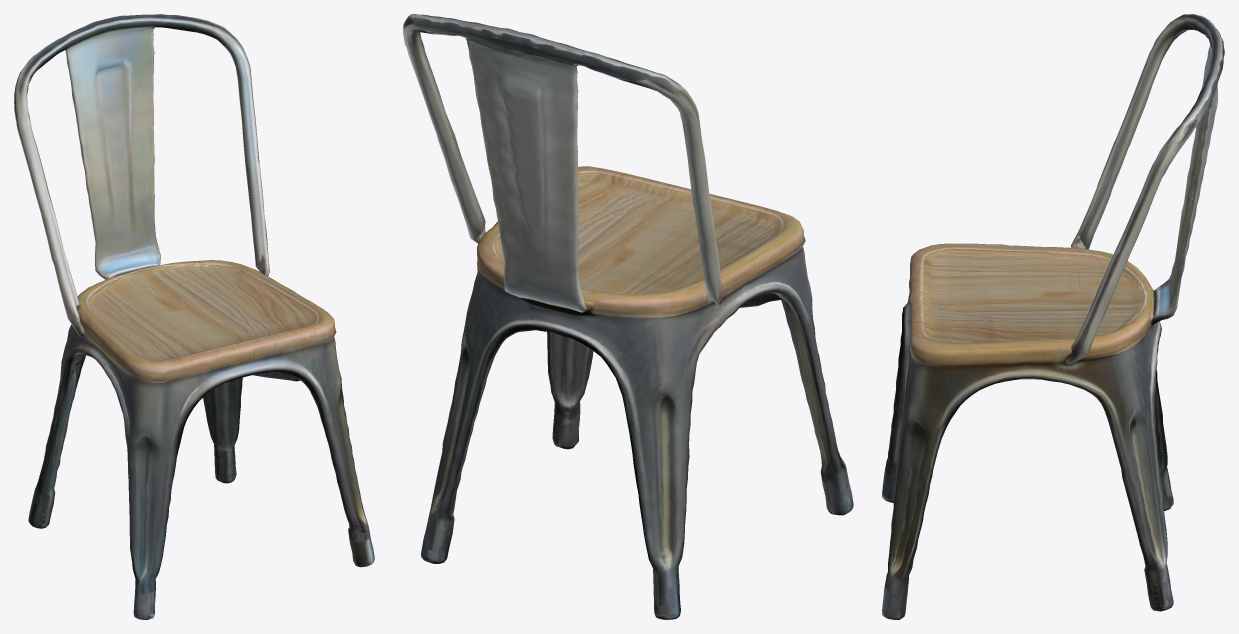
File: AXEL_Metal_Chair_Yel_0403042529_texture.glb
3 renders of one model, left to right at view 1: azimuth 30°, elevation 25°; view 2: azimuth 150°, elevation 25°; view 3: azimuth 270°, elevation 25°, orthographic. The views are drawn at different scales.
Parts seen in each view (by area): view 1: Mesh_0.004; view 2: Mesh_0.004; view 3: Mesh_0.004.
Boxes of the visible parts, left/top/right/bottom form: Mesh_0.004: left=14, top=14, right=374, bottom=619; Mesh_0.004: left=403, top=14, right=853, bottom=619; Mesh_0.004: left=882, top=14, right=1224, bottom=619.
Size of the model in its own units: 0.4356 by 0.8128 by 0.4907.
Materials: 1 (1 with a texture image).
